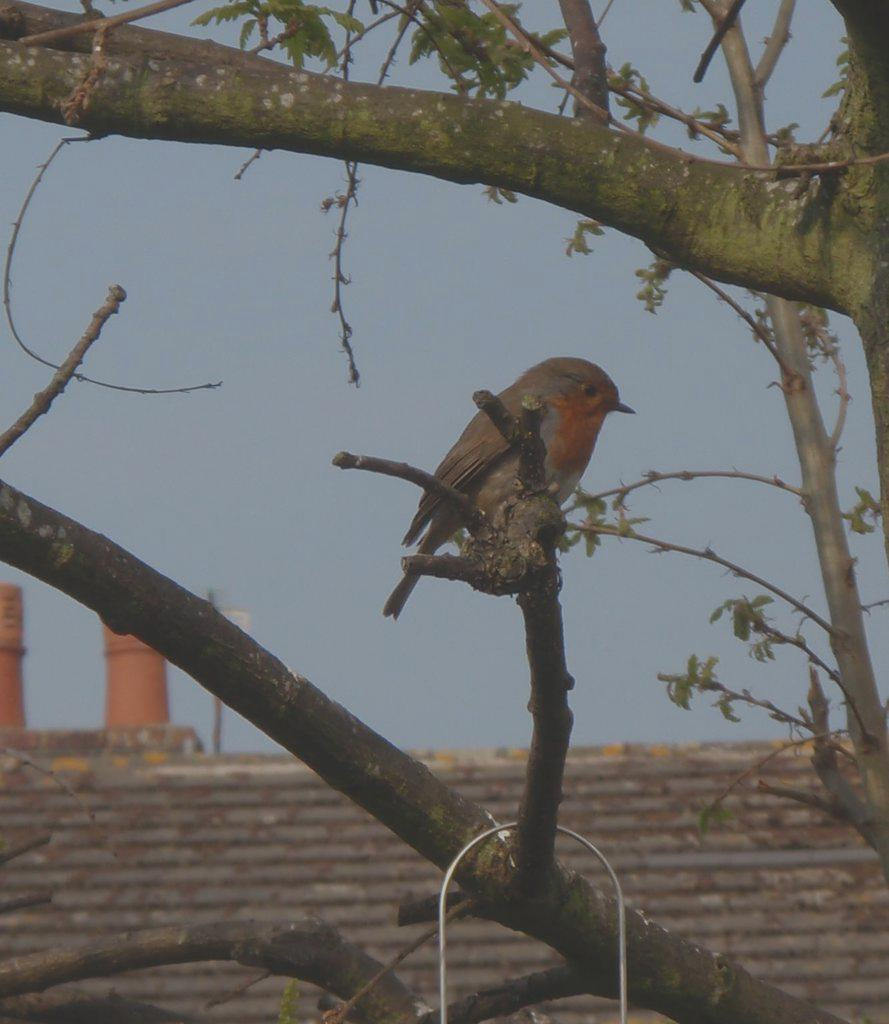ErithacusRubecula: (382, 355, 636, 621)
